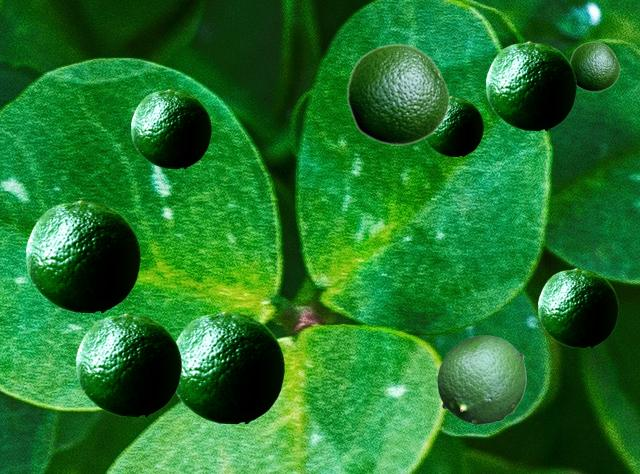calamansi: (26, 200, 139, 311), (176, 311, 283, 422), (76, 313, 180, 415), (346, 43, 449, 145), (486, 41, 575, 129), (437, 335, 525, 423), (131, 89, 210, 167), (538, 268, 617, 346), (424, 96, 482, 155), (570, 41, 619, 91)
